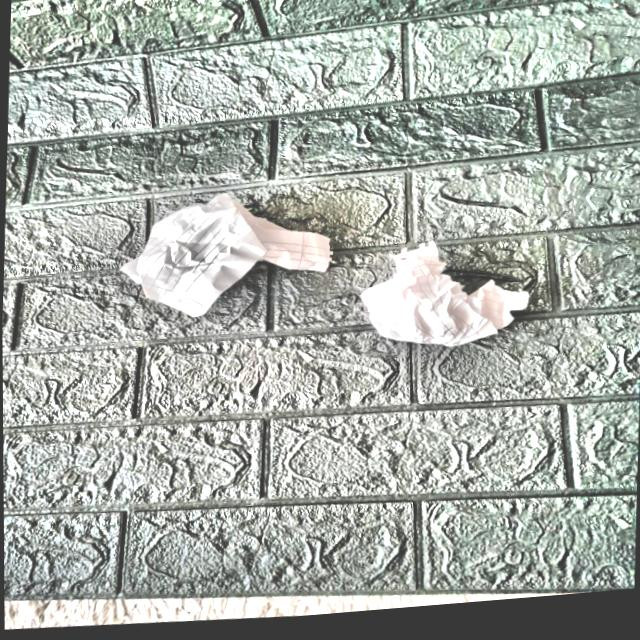Paper: (110, 193, 334, 319), (356, 242, 530, 362)
